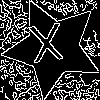X: (28, 23, 67, 72)
